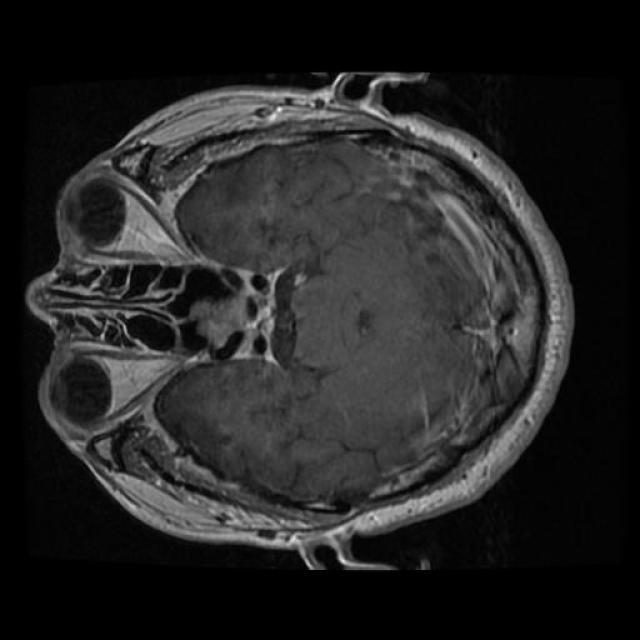Pituitary: (189, 271, 274, 361)
